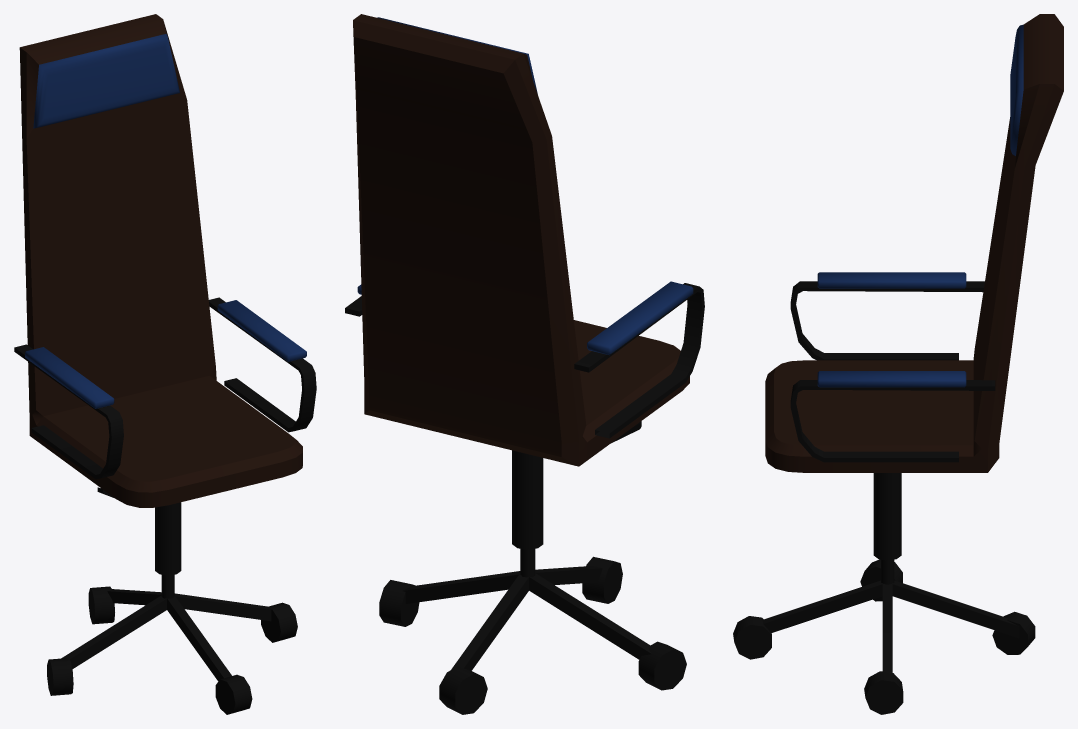
File: Chair.FBX
3 views of the same model, side by side, from view 1: azimuth 30°, elevation 25°; view 2: azimuth 150°, elevation 25°; view 3: azimuth 270°, elevation 25° (orthographic). The views are drawn at different scales.
Visible parts, largest first — view 1: Chair; view 2: Chair; view 3: Chair.
Part boxes in pixels (bbox=[...]): Chair: bbox=[14, 14, 316, 714]; Chair: bbox=[345, 14, 704, 714]; Chair: bbox=[733, 14, 1063, 714].
Size of the model in its own units: 22.7 by 25.46 by 51.36.
